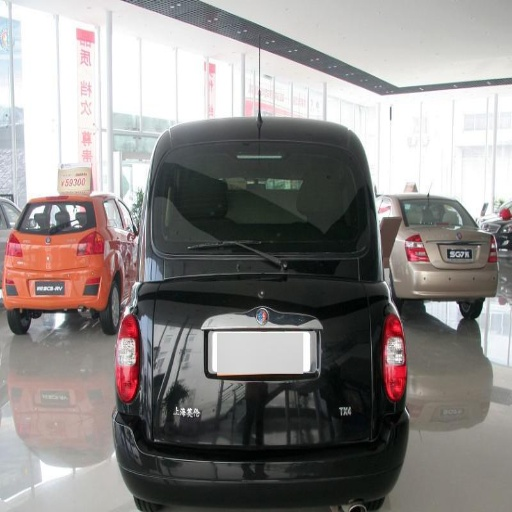back_bumper: (112, 406, 410, 511)
tailgate: (236, 247, 371, 326), (220, 388, 366, 454), (415, 227, 494, 287)
trunk: (134, 257, 391, 455), (2, 206, 108, 305)
